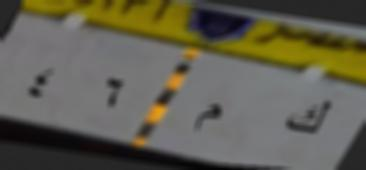4: (18, 54, 62, 107)
6: (92, 73, 134, 113)
kaaf: (276, 93, 336, 144)
meem: (184, 92, 230, 143)
